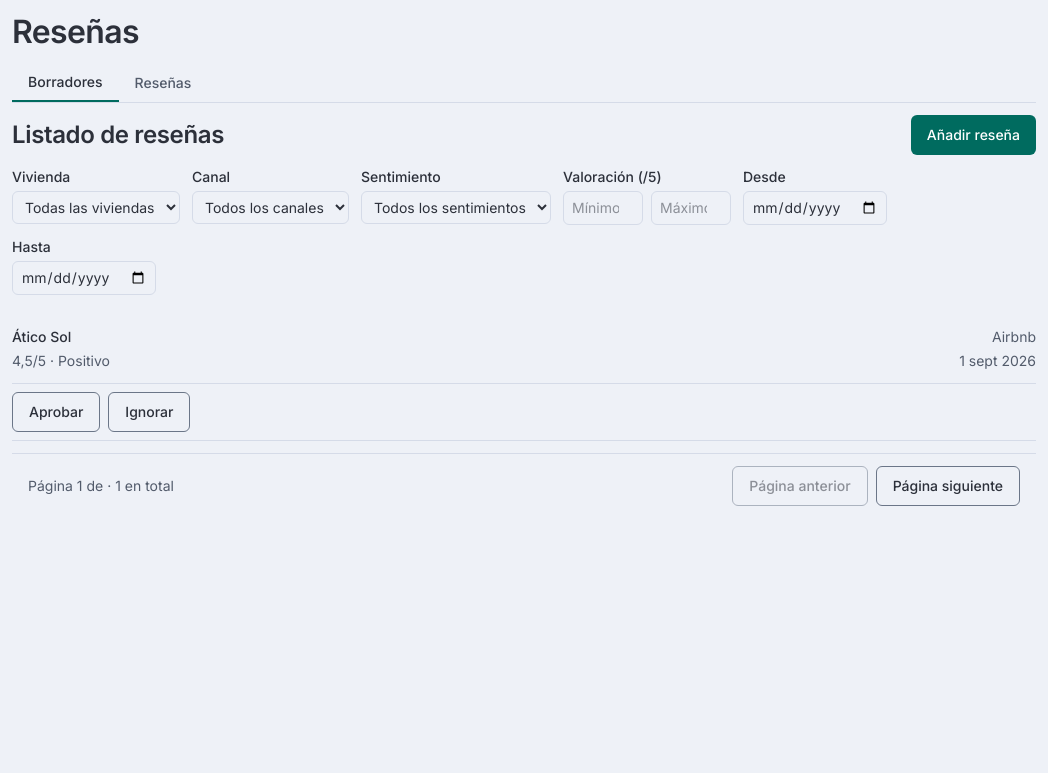
Test: ReviewsView — the detail overlay (R6.1) › opens the detail on row click and shows the guest text
The image size is (1048, 773).
Click the button "Ático Sol Airbnb 4,5/5 · Positivo 1 sept 2026" at (42, 336), box [12,315,1036,384]
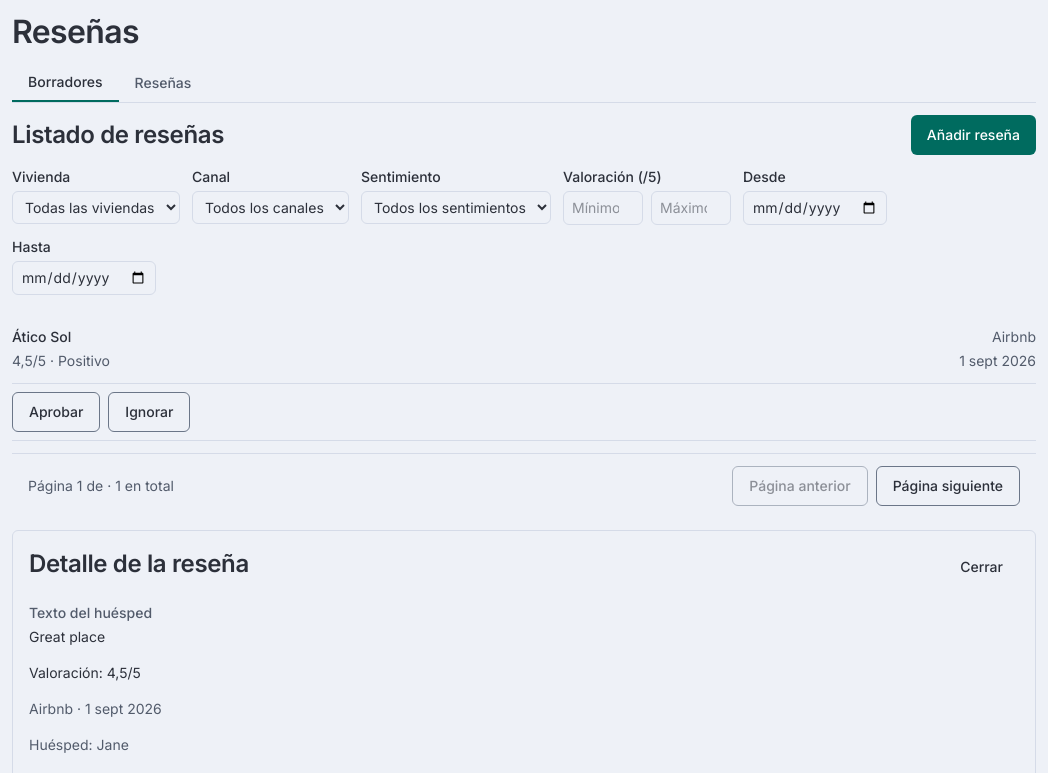
Check: the text "Great place" is shown, box [29,628,105,645]
